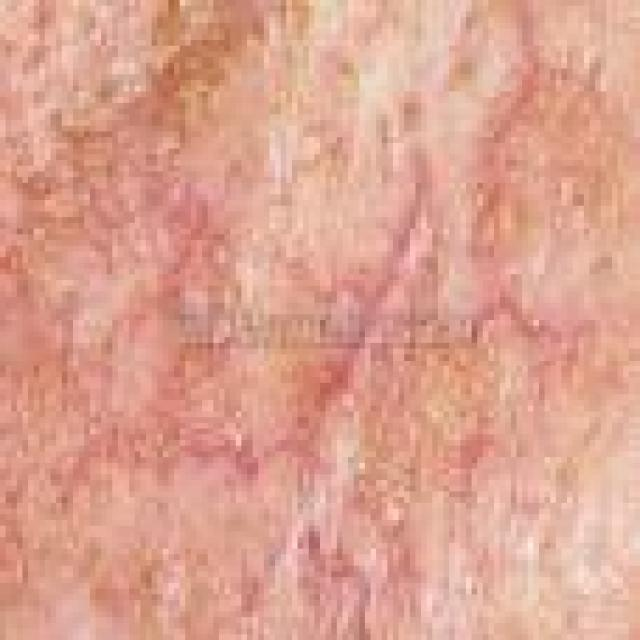Melasma: (33, 26, 596, 608)
